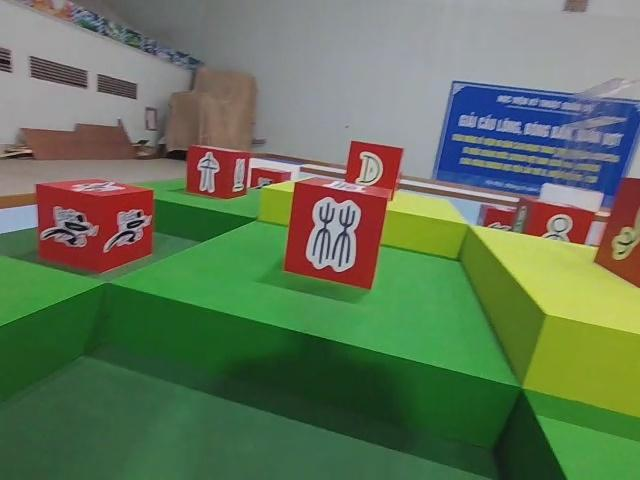R1: (33, 176, 156, 277)
R2 Fake: (281, 173, 390, 299), (183, 143, 251, 203)
R2 Real: (591, 173, 640, 290), (340, 138, 406, 202)
